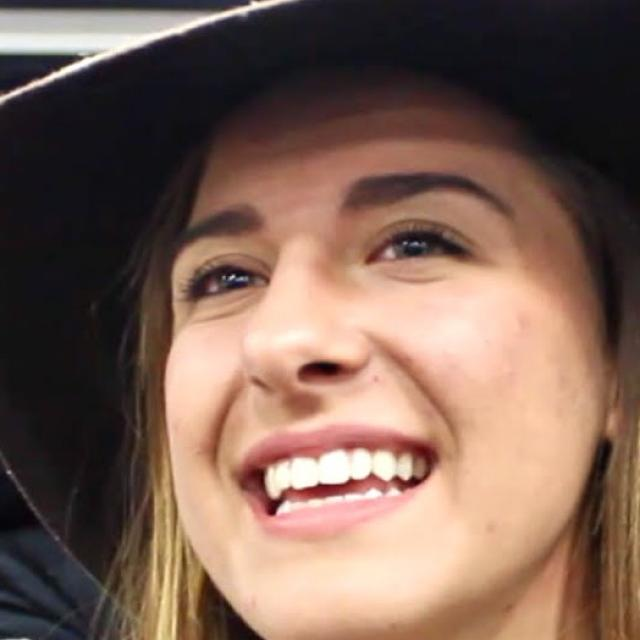Normal: (162, 65, 612, 637)
